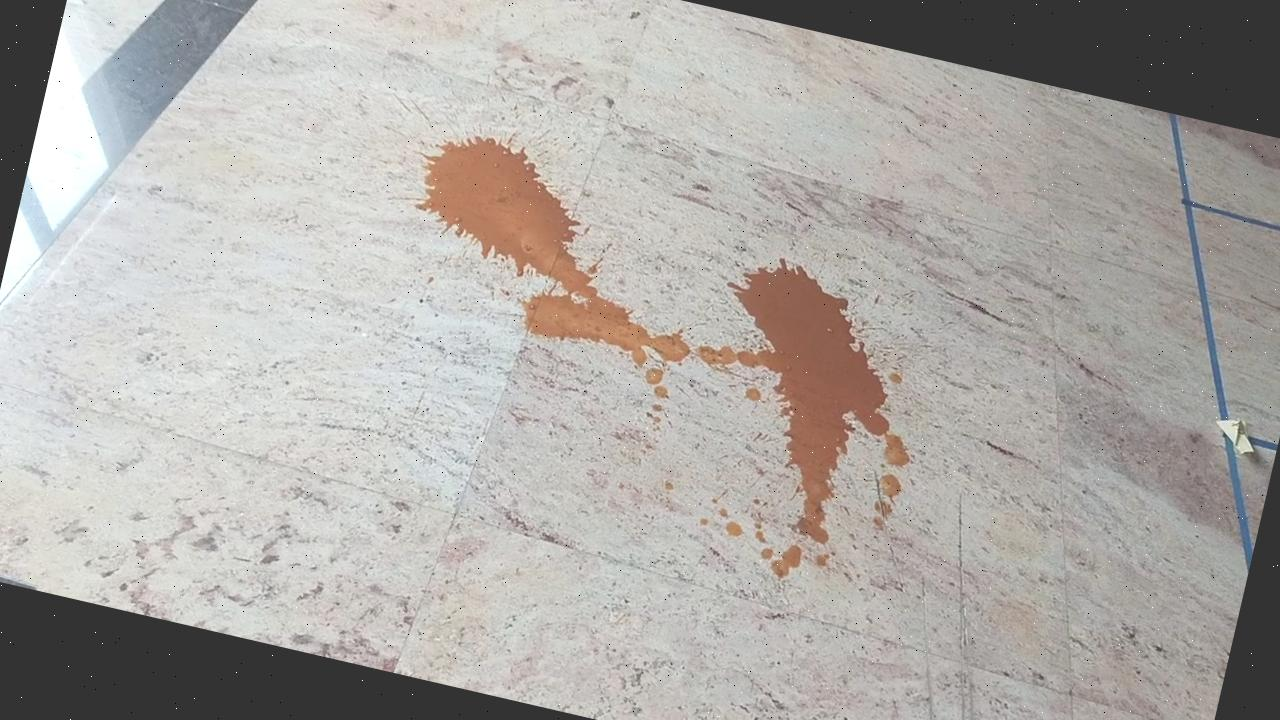dirty_floor: (354, 118, 964, 606)
